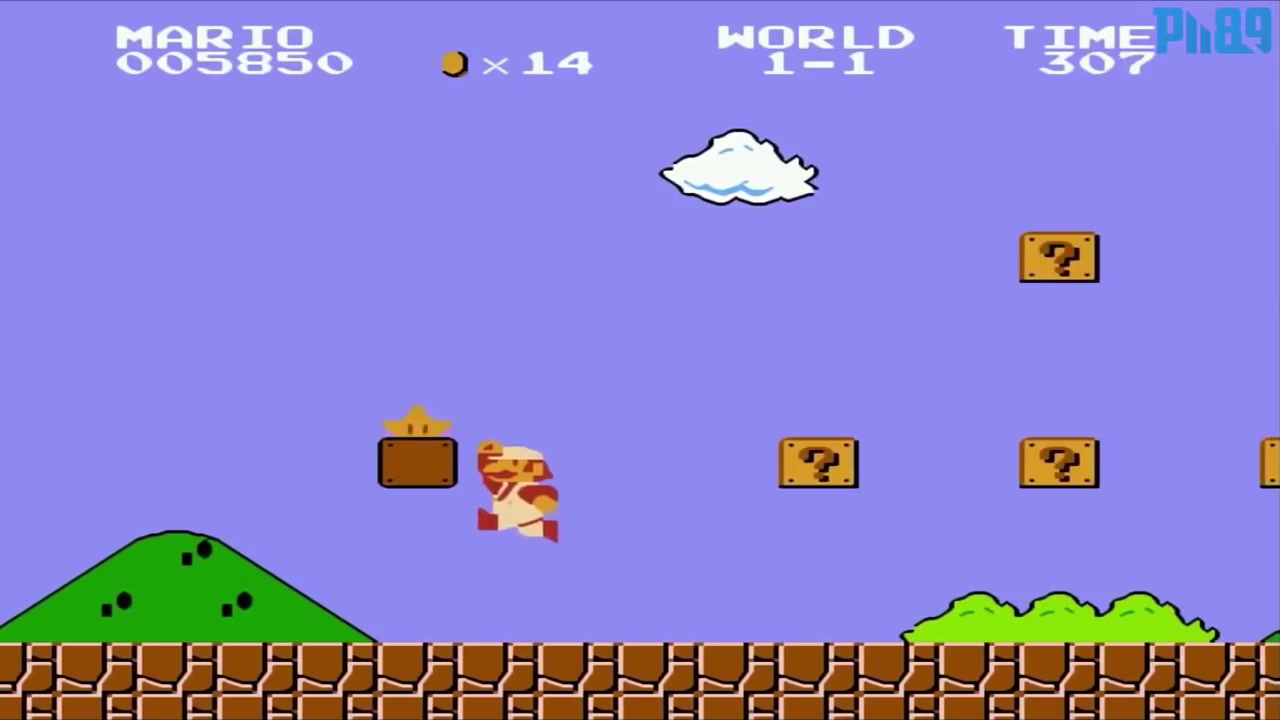mario: (465, 437, 564, 552)
